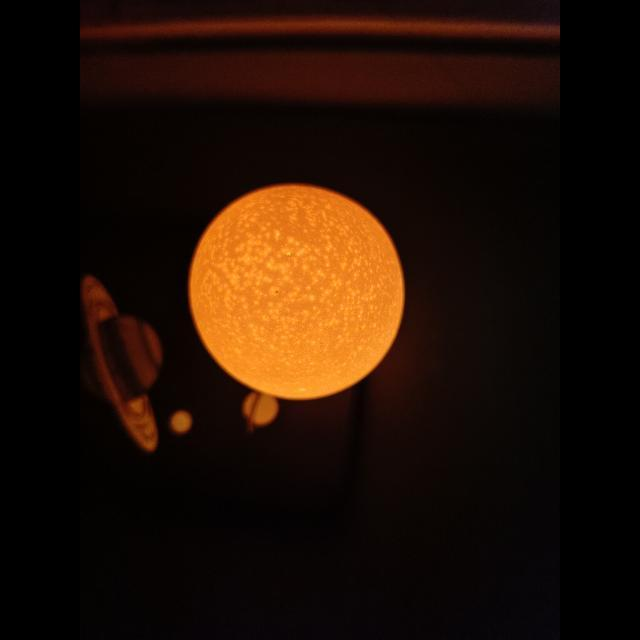AA - Premium: (189, 184, 404, 400)
